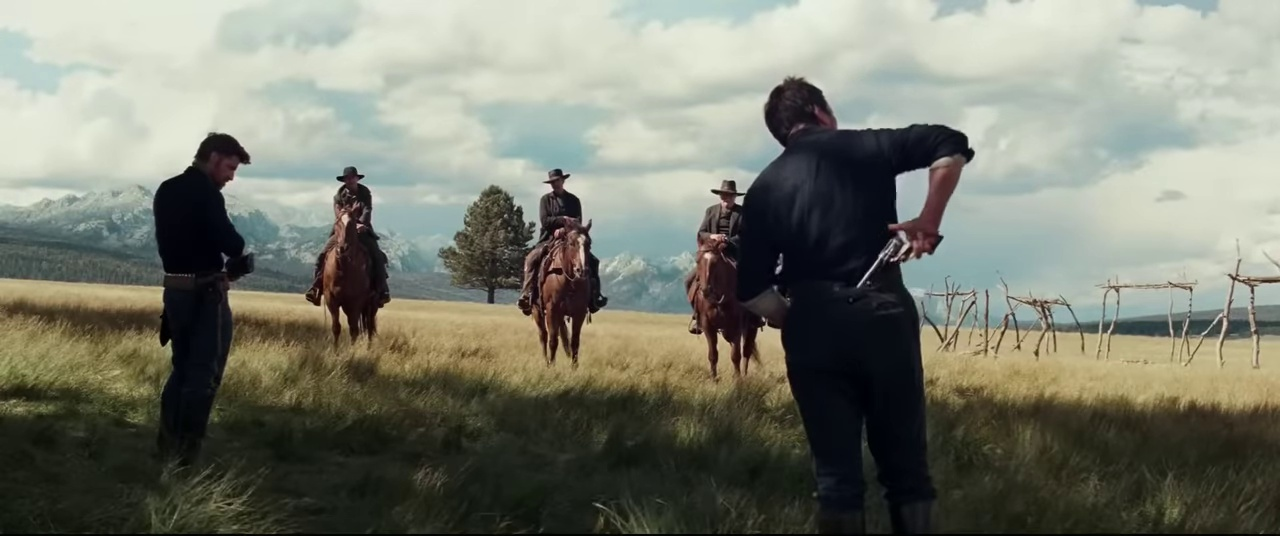gun: (851, 224, 947, 289)
p_w_gun: (735, 77, 975, 534)
p_wo_gun_carrying_another_object: (153, 128, 264, 490)
p_wo_gun_not_carrying_normal_pose: (518, 168, 610, 316), (306, 164, 392, 304), (695, 177, 752, 259)
